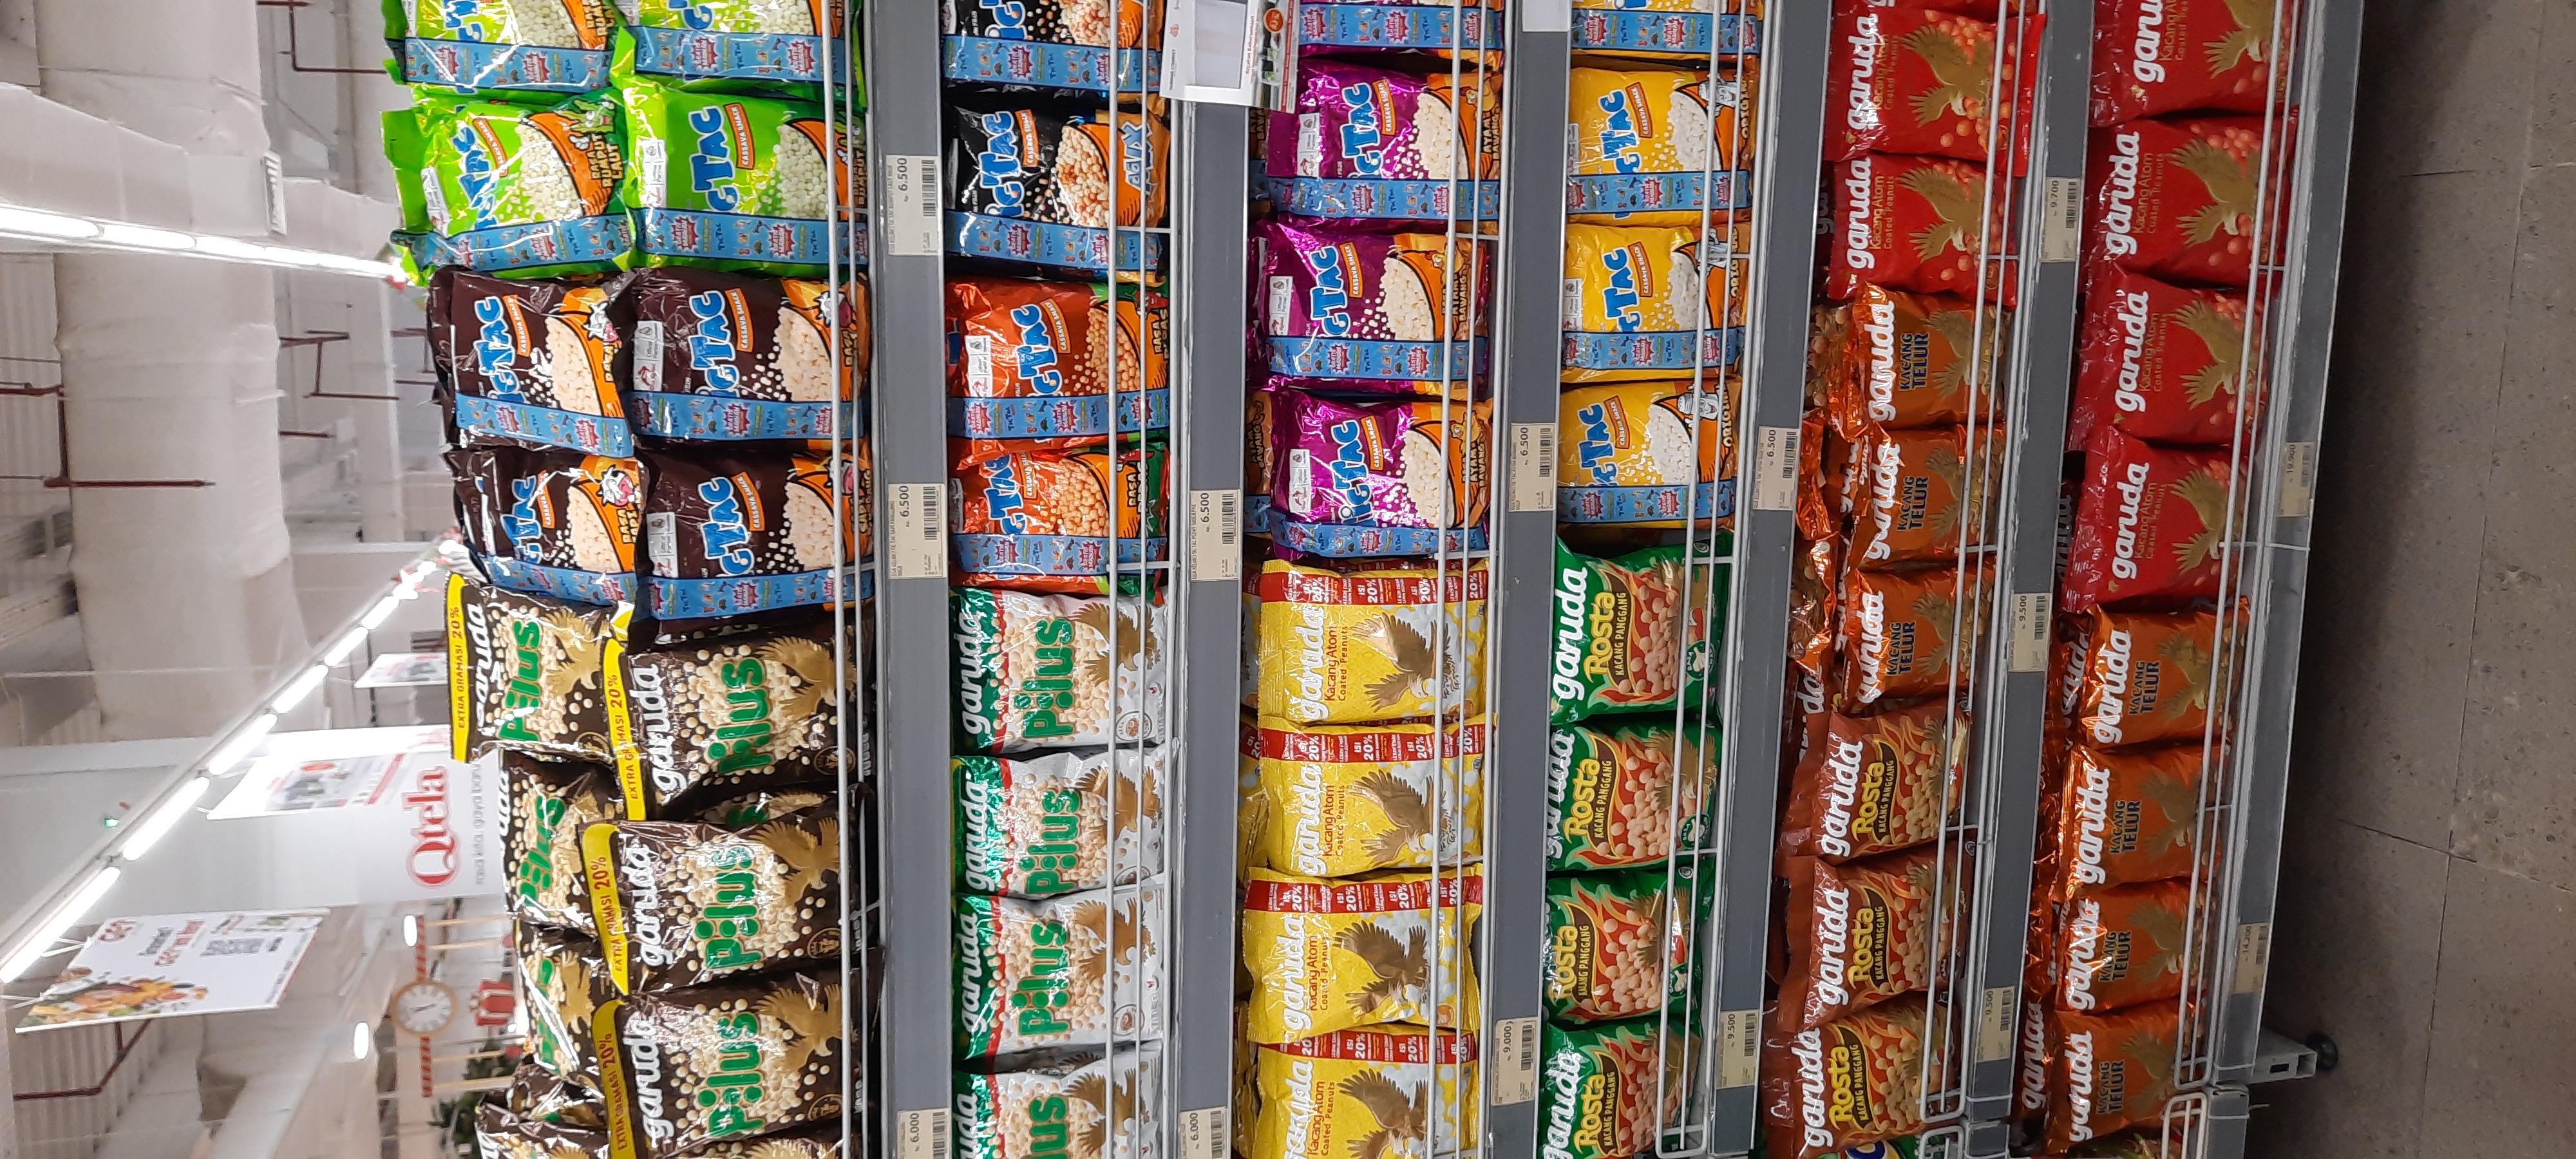90101111202100: (1255, 561, 1492, 737), (1242, 870, 1479, 1046), (1245, 724, 1483, 873), (1226, 1034, 1493, 1159)
90101111301100: (2104, 118, 2280, 286), (2085, 277, 2261, 445), (2075, 437, 2249, 604)
90101111302100: (1830, 156, 2024, 304), (1835, 10, 2027, 158)
90101111607100: (1556, 538, 1715, 719), (1554, 724, 1713, 868), (1544, 872, 1704, 1016), (1546, 1028, 1690, 1159)
90101111615100: (1786, 849, 1968, 1005), (1768, 1008, 1962, 1151), (1792, 708, 1965, 852)
90101111701100: (2042, 1018, 2190, 1151), (2081, 607, 2229, 740), (2060, 754, 2208, 886), (2052, 888, 2200, 1021)
90101111702100: (1856, 287, 2004, 432), (1845, 570, 1993, 714), (1851, 427, 1998, 571)
90101151604100: (603, 622, 869, 809), (588, 814, 854, 1001), (585, 998, 879, 1159), (956, 905, 1175, 1059), (958, 593, 1175, 747), (956, 752, 1175, 905), (442, 576, 616, 762)
TicTacAyamBawang: (1272, 72, 1513, 218), (1260, 233, 1502, 379), (1257, 401, 1498, 545)
TicTacMix: (953, 95, 1168, 266)
TicTacOriginal: (1569, 71, 1756, 223), (1559, 371, 1745, 524), (1569, 218, 1755, 371)
TicTacPedas: (950, 445, 1175, 601), (948, 281, 1171, 437)
TicTacRumputLaut: (626, 95, 861, 269), (396, 110, 631, 271)
TicTacSapiPanggang: (652, 456, 882, 619), (634, 274, 864, 437), (447, 281, 641, 442), (453, 445, 644, 604)
